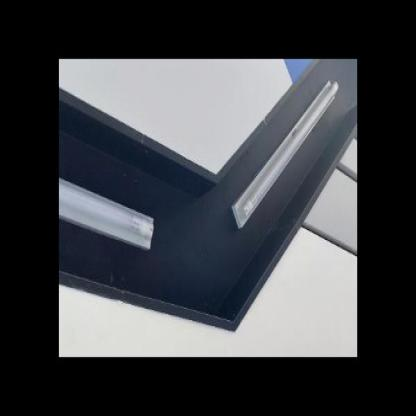light_off: (225, 73, 344, 236), (59, 141, 159, 268)
